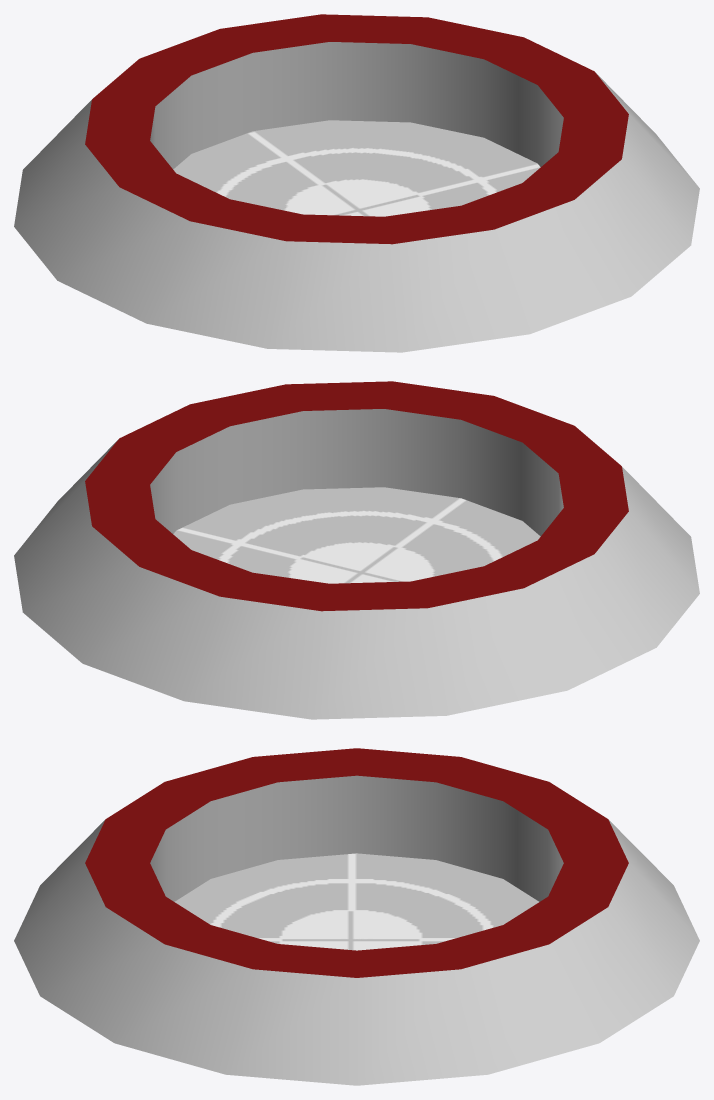
File: WinBox.fbx
3 renders of one model, top to bottom at view 1: azimuth 30°, elevation 25°; view 2: azimuth 150°, elevation 25°; view 3: azimuth 270°, elevation 25°, orthographic.
Visible parts, largest first — view 1: WinBox; view 2: WinBox; view 3: WinBox.
Part boxes in pixels (bbox=[...]): WinBox: bbox=[14, 14, 699, 352]; WinBox: bbox=[14, 381, 699, 719]; WinBox: bbox=[14, 748, 699, 1085].
Bounding box in the file's own units: 2 × 0.25 × 2.
1 material, 1 textured.
